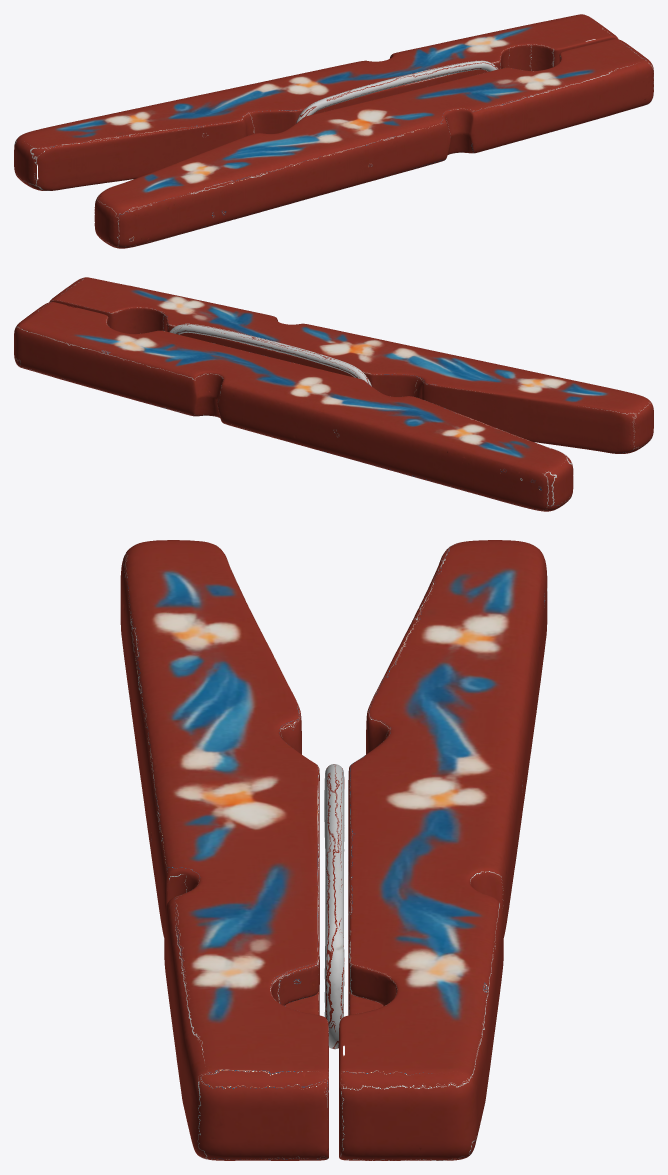
3 renders of one model, top to bottom at view 1: azimuth 30°, elevation 25°; view 2: azimuth 150°, elevation 25°; view 3: azimuth 270°, elevation 25°, orthographic. The views are drawn at different scales.
Bounding box in the file's own units: 1.92 × 0.2248 × 0.6322.
1 material, 1 textured.
